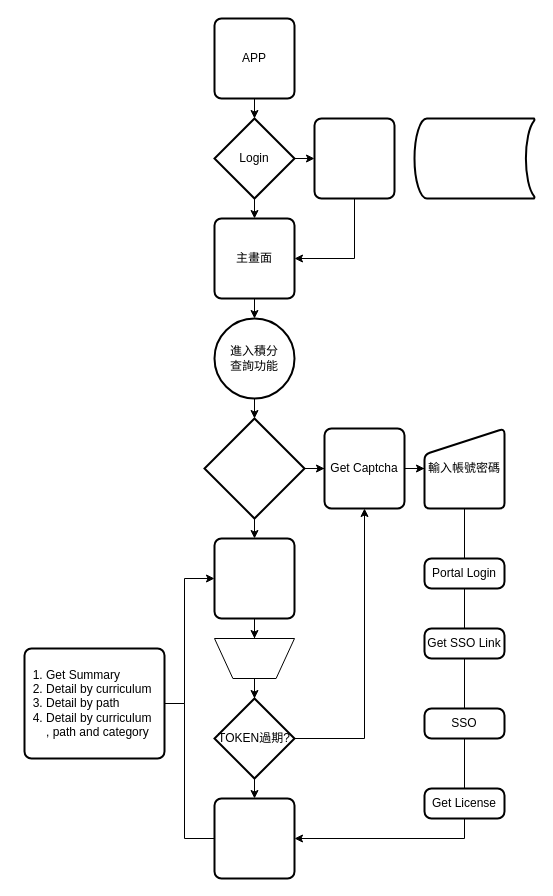
The diagram is 553 pixels wide and 896 high, and some of its shapes have lost their labels. Here are the shapes that lost their labels. From the top down, the centre of each, then its label:
At [354,158]: "google/apple".
At [474,158]: "1. 儲存哪些東西?".
At [254,468]: "歷史查詢資料".
At [254,578]: "顯示資料".
At [254,658]: "重新查詢".
At [254,838]: "執行查詢".
